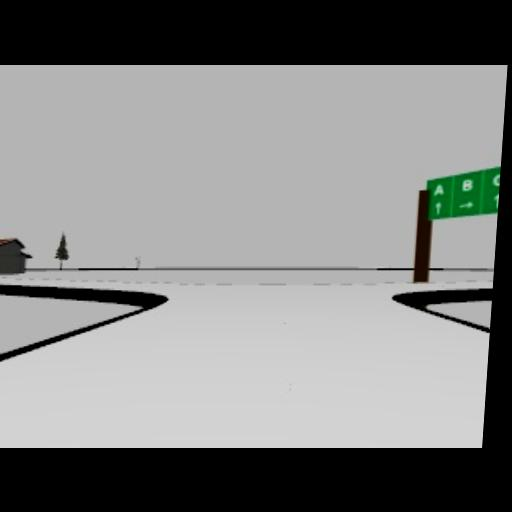A: (431, 180, 450, 196)
B: (461, 177, 475, 191)
C: (490, 172, 501, 186)
Right: (458, 199, 475, 209)
Straight: (433, 200, 443, 214), (491, 191, 499, 206)
